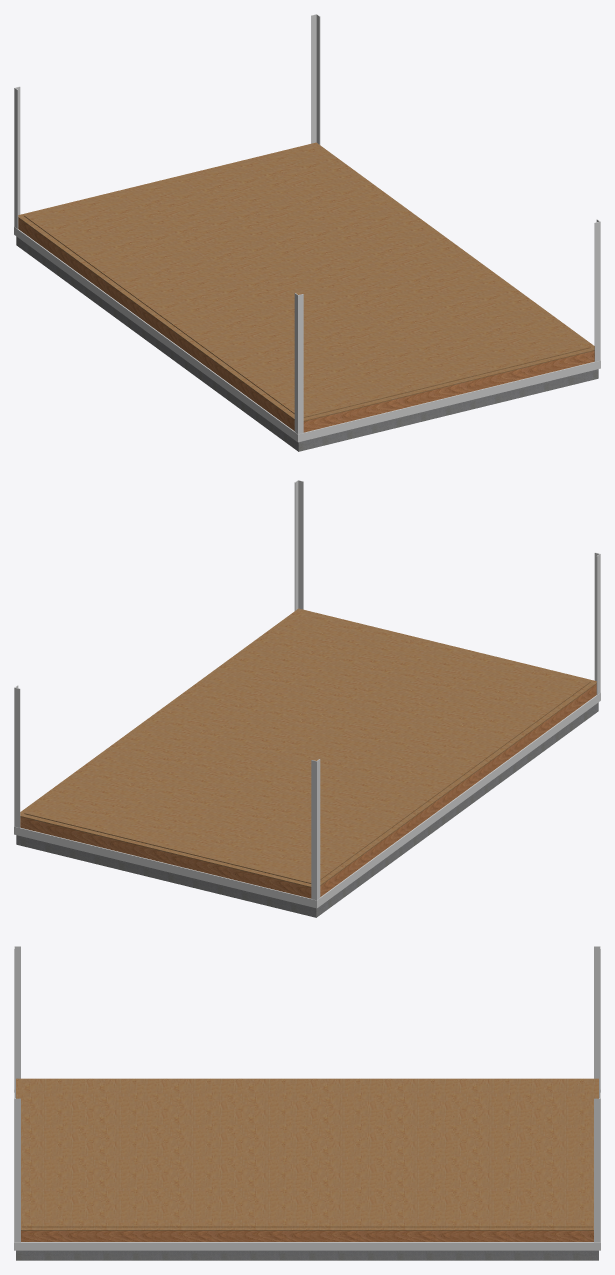
The model's file is 2storey_20x32_GFBlock.glb.
3 renders of one model, top to bottom at view 1: azimuth 30°, elevation 25°; view 2: azimuth 150°, elevation 25°; view 3: azimuth 270°, elevation 25°, orthographic. The views are drawn at different scales.
Visible parts, largest first — view 1: GF_floorfinish, trims, GF_framing, concrete_foundation; view 2: GF_floorfinish, trims, GF_framing, concrete_foundation; view 3: GF_floorfinish, trims, concrete_foundation, GF_framing.
Boxes of the visible parts, x1,y1,x2,y2 form: GF_floorfinish: [18, 142, 594, 421]; trims: [14, 14, 600, 442]; GF_framing: [18, 218, 594, 432]; concrete_foundation: [16, 236, 598, 451]; GF_floorfinish: [20, 608, 596, 887]; trims: [14, 480, 600, 908]; GF_framing: [20, 684, 596, 898]; concrete_foundation: [16, 702, 598, 917]; GF_floorfinish: [16, 1078, 598, 1230]; trims: [14, 946, 600, 1250]; concrete_foundation: [16, 1250, 598, 1260]; GF_framing: [21, 1231, 593, 1241].
Bounding box in the file's own units: 6.16 × 3.05 × 9.99.
Materials: 4 (3 with a texture image).
